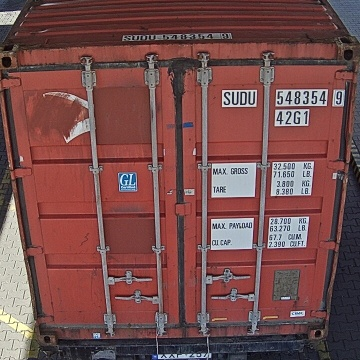serial_id: (223, 90, 343, 106)
